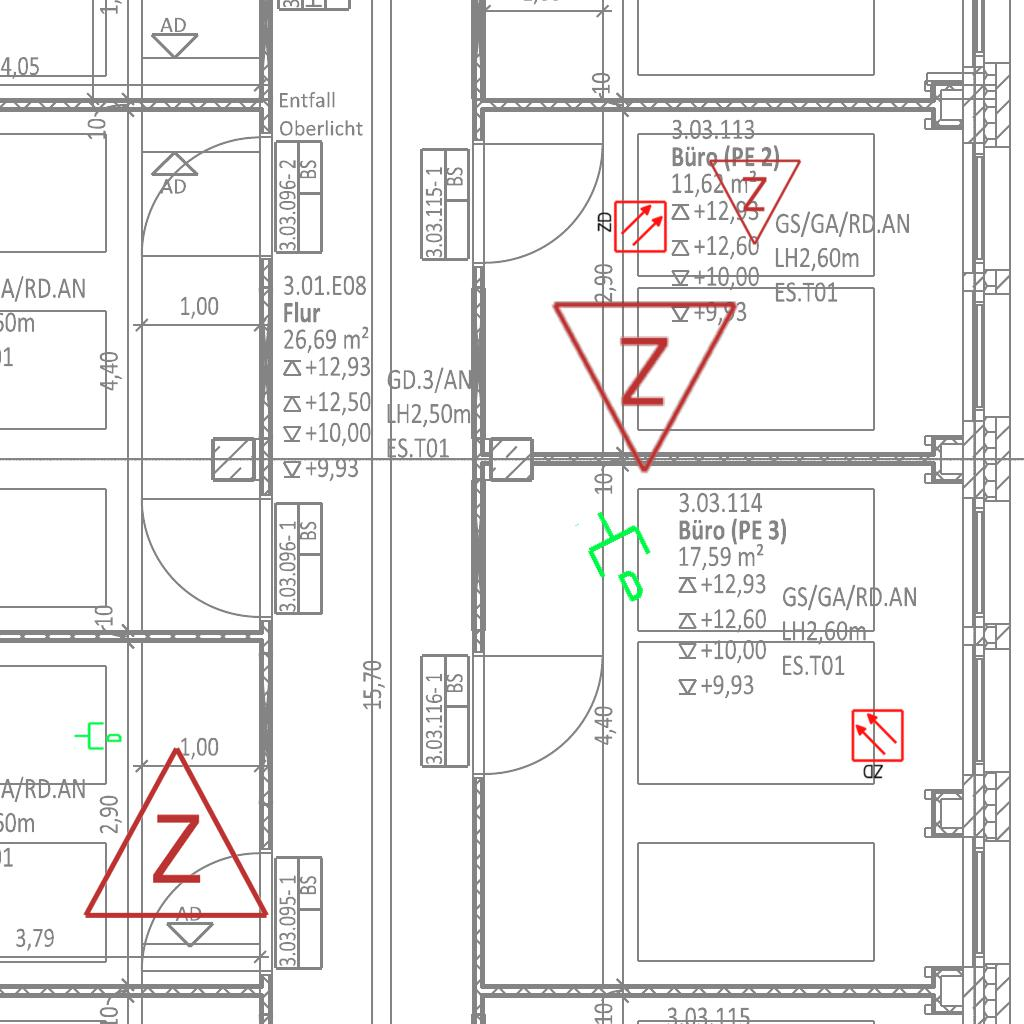Datenanschluss_einfach: (569, 493, 676, 615), (73, 718, 123, 752)
ZD_Melder_in_Zwischendecke_mit_Revisionsoeffnung_mind_40_x_40_cm: (594, 199, 668, 256), (850, 708, 907, 782)
Zimmersignalleuchte: (549, 287, 745, 487), (76, 733, 272, 933), (707, 152, 805, 252)
